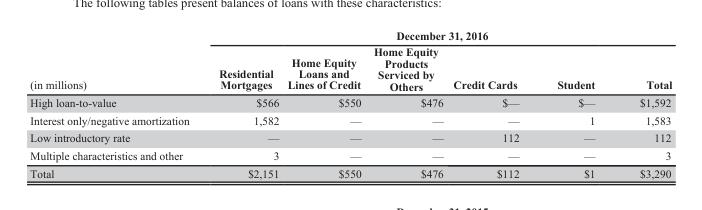table: (29, 28, 671, 179)
table column: (29, 28, 203, 179), (447, 28, 537, 179), (282, 28, 366, 179), (366, 28, 447, 179), (203, 28, 282, 179), (537, 28, 616, 179), (616, 28, 671, 179)
table column header: (29, 28, 671, 93)
table row: (29, 43, 671, 93), (29, 110, 671, 128), (29, 128, 671, 146), (29, 146, 671, 164), (29, 93, 671, 110), (29, 28, 671, 43), (29, 164, 671, 179)
table spanning cell: (29, 28, 203, 93), (203, 28, 671, 43)
